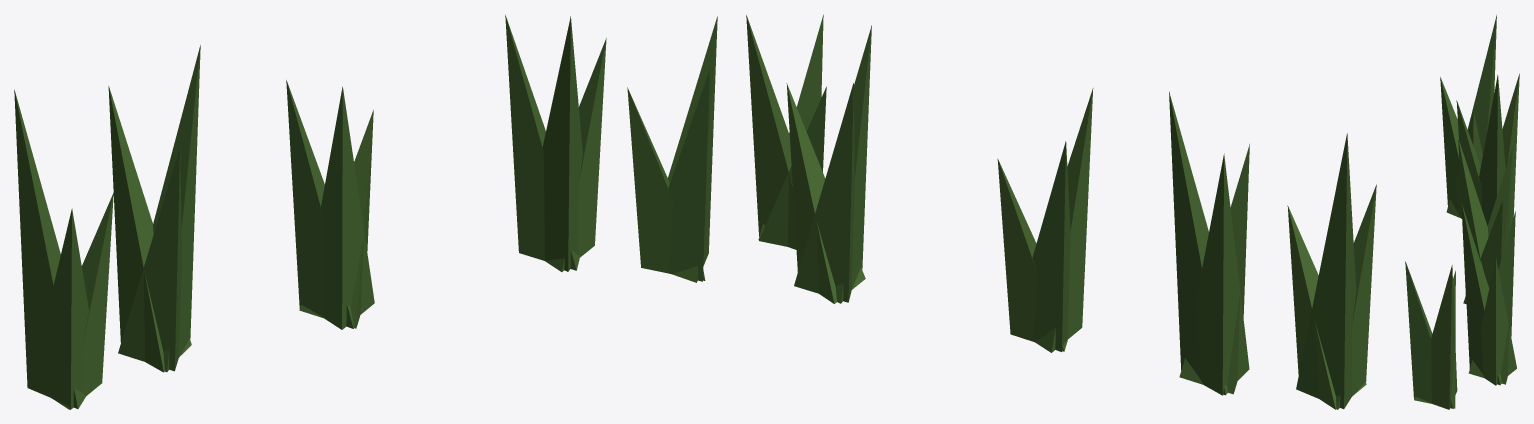
Rendered from Grass.fbx.
3 renders of one model, left to right at view 1: azimuth 30°, elevation 25°; view 2: azimuth 150°, elevation 25°; view 3: azimuth 270°, elevation 25°, orthographic. The views are drawn at different scales.
Visible parts, largest first — view 1: Kit_Grass; view 2: Kit_Grass; view 3: Kit_Grass.
Boxes of the visible parts, x1,y1,x2,y2 form: Kit_Grass: [14, 15, 717, 409]; Kit_Grass: [746, 14, 1376, 409]; Kit_Grass: [1405, 15, 1519, 409].
Bounding box in the file's own units: 0.5614 × 0.2392 × 0.1302.
